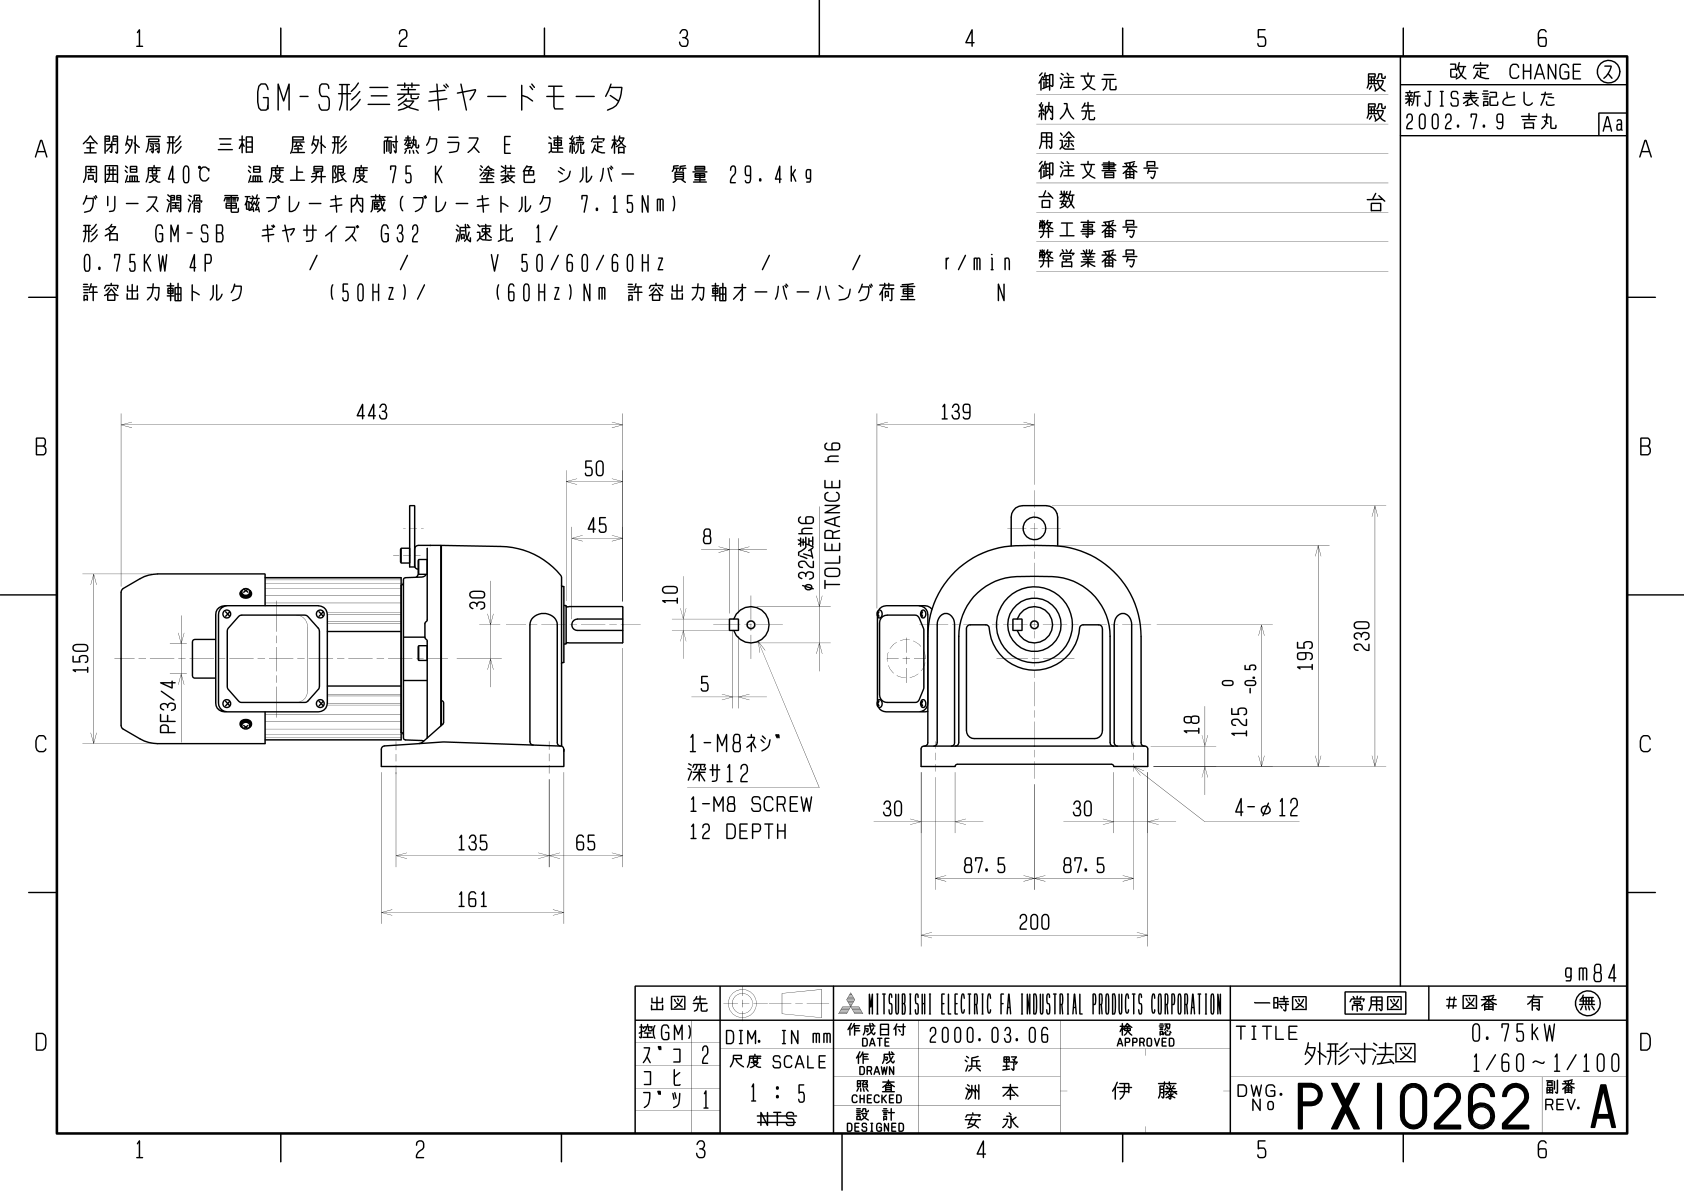GM_S_屋外＿三相_脚: (67, 363, 1395, 974)
